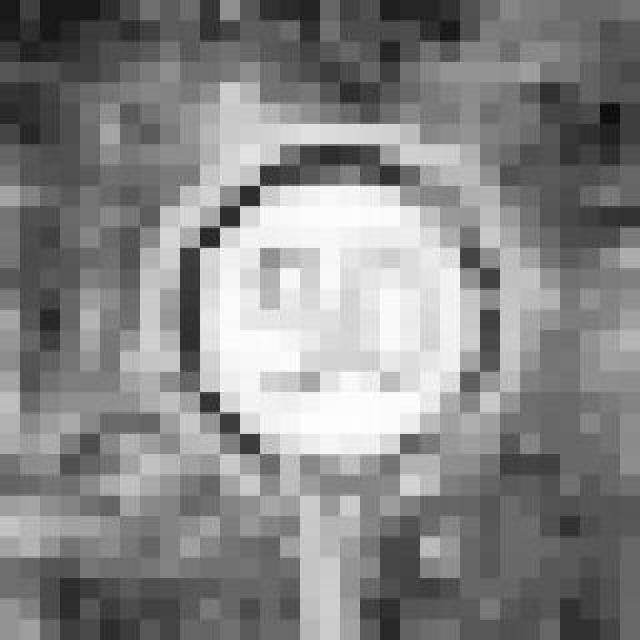50 kph: (120, 104, 500, 496)
